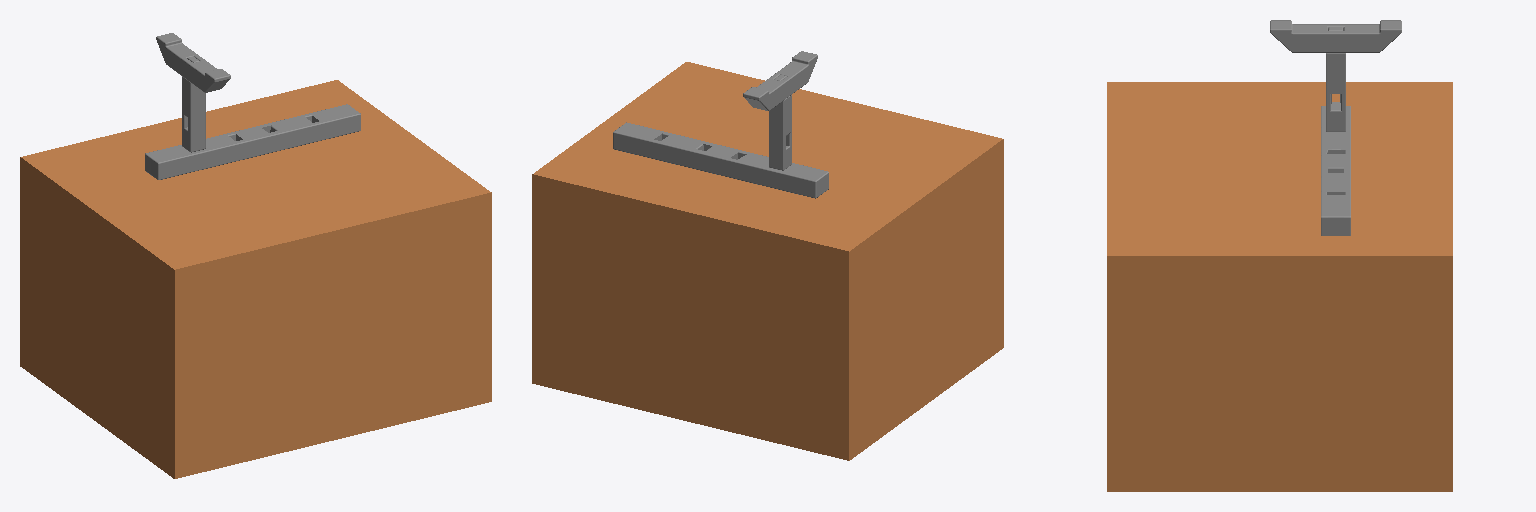
The robot description file, URDF, robot "table_beam_2x_3_scene_0010":
<?xml version="1.0"?>
<robot name="table_beam_2x_3_scene_0010">
  <link name="box">
    <visual>
      <material name="wood"><color rgba="0.82 0.56 0.35 1.0"/></material>
      <origin xyz="0 0 0"/>
      <geometry><box size="0.475 0.4 0.3"/></geometry>
    </visual>
    <collision>
      <origin xyz="0 0 0"/>
      <geometry><box size="0.475 0.4 0.3"/></geometry>
    </collision>
    <inertial>
      <mass value="500"/>
      <friction value="1.0"/>
      <inertia ixx="1000.0" ixy="0.0" ixz="0.0" iyy="1000.0" iyz="0.0" izz="1000.0"/>
    </inertial>
  </link>
  <link name="part_6_hull_0">
    <visual>
      <origin xyz="0 0 0" rpy="0 0 0"/>
      <geometry><mesh filename="../../6/coacd/decomp_0.obj" scale="1 1 1"/></geometry>
      <material name="placed_0"><color rgba="0.6 0.6 0.6 1.0"/></material>
    </visual>
    <collision>
      <origin xyz="0 0 0" rpy="0 0 0"/>
      <geometry><mesh filename="../../6/coacd/decomp_0.obj" scale="1 1 1"/></geometry>
    </collision>
  </link>
  <joint name="part_6_hull_0_joint" type="fixed">
    <parent link="box"/>
    <child link="part_6_hull_0"/>
    <origin xyz="0.032809 0.064644 0.162666" rpy="0.000000 0.000000 0.000000"/>
  </joint>
  <link name="part_6_hull_1">
    <visual>
      <origin xyz="0 0 0" rpy="0 0 0"/>
      <geometry><mesh filename="../../6/coacd/decomp_1.obj" scale="1 1 1"/></geometry>
      <material name="placed_1"><color rgba="0.6 0.6 0.6 1.0"/></material>
    </visual>
    <collision>
      <origin xyz="0 0 0" rpy="0 0 0"/>
      <geometry><mesh filename="../../6/coacd/decomp_1.obj" scale="1 1 1"/></geometry>
    </collision>
  </link>
  <joint name="part_6_hull_1_joint" type="fixed">
    <parent link="box"/>
    <child link="part_6_hull_1"/>
    <origin xyz="0.032809 0.064644 0.162666" rpy="0.000000 0.000000 0.000000"/>
  </joint>
  <link name="part_6_hull_2">
    <visual>
      <origin xyz="0 0 0" rpy="0 0 0"/>
      <geometry><mesh filename="../../6/coacd/decomp_10.obj" scale="1 1 1"/></geometry>
      <material name="placed_2"><color rgba="0.6 0.6 0.6 1.0"/></material>
    </visual>
    <collision>
      <origin xyz="0 0 0" rpy="0 0 0"/>
      <geometry><mesh filename="../../6/coacd/decomp_10.obj" scale="1 1 1"/></geometry>
    </collision>
  </link>
  <joint name="part_6_hull_2_joint" type="fixed">
    <parent link="box"/>
    <child link="part_6_hull_2"/>
    <origin xyz="0.032809 0.064644 0.162666" rpy="0.000000 0.000000 0.000000"/>
  </joint>
  <link name="part_6_hull_3">
    <visual>
      <origin xyz="0 0 0" rpy="0 0 0"/>
      <geometry><mesh filename="../../6/coacd/decomp_11.obj" scale="1 1 1"/></geometry>
      <material name="placed_3"><color rgba="0.6 0.6 0.6 1.0"/></material>
    </visual>
    <collision>
      <origin xyz="0 0 0" rpy="0 0 0"/>
      <geometry><mesh filename="../../6/coacd/decomp_11.obj" scale="1 1 1"/></geometry>
    </collision>
  </link>
  <joint name="part_6_hull_3_joint" type="fixed">
    <parent link="box"/>
    <child link="part_6_hull_3"/>
    <origin xyz="0.032809 0.064644 0.162666" rpy="0.000000 0.000000 0.000000"/>
  </joint>
  <link name="part_6_hull_4">
    <visual>
      <origin xyz="0 0 0" rpy="0 0 0"/>
      <geometry><mesh filename="../../6/coacd/decomp_12.obj" scale="1 1 1"/></geometry>
      <material name="placed_4"><color rgba="0.6 0.6 0.6 1.0"/></material>
    </visual>
    <collision>
      <origin xyz="0 0 0" rpy="0 0 0"/>
      <geometry><mesh filename="../../6/coacd/decomp_12.obj" scale="1 1 1"/></geometry>
    </collision>
  </link>
  <joint name="part_6_hull_4_joint" type="fixed">
    <parent link="box"/>
    <child link="part_6_hull_4"/>
    <origin xyz="0.032809 0.064644 0.162666" rpy="0.000000 0.000000 0.000000"/>
  </joint>
  <link name="part_6_hull_5">
    <visual>
      <origin xyz="0 0 0" rpy="0 0 0"/>
      <geometry><mesh filename="../../6/coacd/decomp_13.obj" scale="1 1 1"/></geometry>
      <material name="placed_5"><color rgba="0.6 0.6 0.6 1.0"/></material>
    </visual>
    <collision>
      <origin xyz="0 0 0" rpy="0 0 0"/>
      <geometry><mesh filename="../../6/coacd/decomp_13.obj" scale="1 1 1"/></geometry>
    </collision>
  </link>
  <joint name="part_6_hull_5_joint" type="fixed">
    <parent link="box"/>
    <child link="part_6_hull_5"/>
    <origin xyz="0.032809 0.064644 0.162666" rpy="0.000000 0.000000 0.000000"/>
  </joint>
  <link name="part_6_hull_6">
    <visual>
      <origin xyz="0 0 0" rpy="0 0 0"/>
      <geometry><mesh filename="../../6/coacd/decomp_2.obj" scale="1 1 1"/></geometry>
      <material name="placed_6"><color rgba="0.6 0.6 0.6 1.0"/></material>
    </visual>
    <collision>
      <origin xyz="0 0 0" rpy="0 0 0"/>
      <geometry><mesh filename="../../6/coacd/decomp_2.obj" scale="1 1 1"/></geometry>
    </collision>
  </link>
  <joint name="part_6_hull_6_joint" type="fixed">
    <parent link="box"/>
    <child link="part_6_hull_6"/>
    <origin xyz="0.032809 0.064644 0.162666" rpy="0.000000 0.000000 0.000000"/>
  </joint>
  <link name="part_6_hull_7">
    <visual>
      <origin xyz="0 0 0" rpy="0 0 0"/>
      <geometry><mesh filename="../../6/coacd/decomp_3.obj" scale="1 1 1"/></geometry>
      <material name="placed_7"><color rgba="0.6 0.6 0.6 1.0"/></material>
    </visual>
    <collision>
      <origin xyz="0 0 0" rpy="0 0 0"/>
      <geometry><mesh filename="../../6/coacd/decomp_3.obj" scale="1 1 1"/></geometry>
    </collision>
  </link>
  <joint name="part_6_hull_7_joint" type="fixed">
    <parent link="box"/>
    <child link="part_6_hull_7"/>
    <origin xyz="0.032809 0.064644 0.162666" rpy="0.000000 0.000000 0.000000"/>
  </joint>
  <link name="part_6_hull_8">
    <visual>
      <origin xyz="0 0 0" rpy="0 0 0"/>
      <geometry><mesh filename="../../6/coacd/decomp_4.obj" scale="1 1 1"/></geometry>
      <material name="placed_8"><color rgba="0.6 0.6 0.6 1.0"/></material>
    </visual>
    <collision>
      <origin xyz="0 0 0" rpy="0 0 0"/>
      <geometry><mesh filename="../../6/coacd/decomp_4.obj" scale="1 1 1"/></geometry>
    </collision>
  </link>
  <joint name="part_6_hull_8_joint" type="fixed">
    <parent link="box"/>
    <child link="part_6_hull_8"/>
    <origin xyz="0.032809 0.064644 0.162666" rpy="0.000000 0.000000 0.000000"/>
  </joint>
  <link name="part_6_hull_9">
    <visual>
      <origin xyz="0 0 0" rpy="0 0 0"/>
      <geometry><mesh filename="../../6/coacd/decomp_5.obj" scale="1 1 1"/></geometry>
      <material name="placed_9"><color rgba="0.6 0.6 0.6 1.0"/></material>
    </visual>
    <collision>
      <origin xyz="0 0 0" rpy="0 0 0"/>
      <geometry><mesh filename="../../6/coacd/decomp_5.obj" scale="1 1 1"/></geometry>
    </collision>
  </link>
  <joint name="part_6_hull_9_joint" type="fixed">
    <parent link="box"/>
    <child link="part_6_hull_9"/>
    <origin xyz="0.032809 0.064644 0.162666" rpy="0.000000 0.000000 0.000000"/>
  </joint>
  <link name="part_6_hull_10">
    <visual>
      <origin xyz="0 0 0" rpy="0 0 0"/>
      <geometry><mesh filename="../../6/coacd/decomp_6.obj" scale="1 1 1"/></geometry>
      <material name="placed_10"><color rgba="0.6 0.6 0.6 1.0"/></material>
    </visual>
    <collision>
      <origin xyz="0 0 0" rpy="0 0 0"/>
      <geometry><mesh filename="../../6/coacd/decomp_6.obj" scale="1 1 1"/></geometry>
    </collision>
  </link>
  <joint name="part_6_hull_10_joint" type="fixed">
    <parent link="box"/>
    <child link="part_6_hull_10"/>
    <origin xyz="0.032809 0.064644 0.162666" rpy="0.000000 0.000000 0.000000"/>
  </joint>
  <link name="part_6_hull_11">
    <visual>
      <origin xyz="0 0 0" rpy="0 0 0"/>
      <geometry><mesh filename="../../6/coacd/decomp_7.obj" scale="1 1 1"/></geometry>
      <material name="placed_11"><color rgba="0.6 0.6 0.6 1.0"/></material>
    </visual>
    <collision>
      <origin xyz="0 0 0" rpy="0 0 0"/>
      <geometry><mesh filename="../../6/coacd/decomp_7.obj" scale="1 1 1"/></geometry>
    </collision>
  </link>
  <joint name="part_6_hull_11_joint" type="fixed">
    <parent link="box"/>
    <child link="part_6_hull_11"/>
    <origin xyz="0.032809 0.064644 0.162666" rpy="0.000000 0.000000 0.000000"/>
  </joint>
  <link name="part_6_hull_12">
    <visual>
      <origin xyz="0 0 0" rpy="0 0 0"/>
      <geometry><mesh filename="../../6/coacd/decomp_8.obj" scale="1 1 1"/></geometry>
      <material name="placed_12"><color rgba="0.6 0.6 0.6 1.0"/></material>
    </visual>
    <collision>
      <origin xyz="0 0 0" rpy="0 0 0"/>
      <geometry><mesh filename="../../6/coacd/decomp_8.obj" scale="1 1 1"/></geometry>
    </collision>
  </link>
  <joint name="part_6_hull_12_joint" type="fixed">
    <parent link="box"/>
    <child link="part_6_hull_12"/>
    <origin xyz="0.032809 0.064644 0.162666" rpy="0.000000 0.000000 0.000000"/>
  </joint>
  <link name="part_6_hull_13">
    <visual>
      <origin xyz="0 0 0" rpy="0 0 0"/>
      <geometry><mesh filename="../../6/coacd/decomp_9.obj" scale="1 1 1"/></geometry>
      <material name="placed_13"><color rgba="0.6 0.6 0.6 1.0"/></material>
    </visual>
    <collision>
      <origin xyz="0 0 0" rpy="0 0 0"/>
      <geometry><mesh filename="../../6/coacd/decomp_9.obj" scale="1 1 1"/></geometry>
    </collision>
  </link>
  <joint name="part_6_hull_13_joint" type="fixed">
    <parent link="box"/>
    <child link="part_6_hull_13"/>
    <origin xyz="0.032809 0.064644 0.162666" rpy="0.000000 0.000000 0.000000"/>
  </joint>
  <link name="part_2_canonical">
    <visual>
      <origin xyz="0 0 0" rpy="0 0 0"/>
      <geometry><mesh filename="../../2/2_canonical.obj" scale="1 1 1"/></geometry>
      <material name="placed_14"><color rgba="0.6 0.6 0.6 1.0"/></material>
    </visual>
    <collision>
      <origin xyz="0 0 0" rpy="0 0 0"/>
      <geometry><mesh filename="../../2/2_canonical.obj" scale="1 1 1"/></geometry>
    </collision>
  </link>
  <joint name="part_2_canonical_joint" type="fixed">
    <parent link="box"/>
    <child link="part_2_canonical"/>
    <origin xyz="-0.056118 0.064644 0.225384" rpy="0.000000 -1.570796 0.000000"/>
  </joint>
  <link name="part_0_canonical">
    <visual>
      <origin xyz="0 0 0" rpy="0 0 0"/>
      <geometry><mesh filename="../../0/0_canonical.obj" scale="1 1 1"/></geometry>
      <material name="placed_15"><color rgba="0.6 0.6 0.6 1.0"/></material>
    </visual>
    <collision>
      <origin xyz="0 0 0" rpy="0 0 0"/>
      <geometry><mesh filename="../../0/0_canonical.obj" scale="1 1 1"/></geometry>
    </collision>
  </link>
  <joint name="part_0_canonical_joint" type="fixed">
    <parent link="box"/>
    <child link="part_0_canonical"/>
    <origin xyz="-0.056091 0.064644 0.292243" rpy="1.570796 0.000000 -1.570796"/>
  </joint>
</robot>

--- What the picture shows (computed from the rendered views, not written in the file) ---
Views: 3 orthographic renders of the robot side by side, from view 1: azimuth 30°, elevation 25°; view 2: azimuth 150°, elevation 25°; view 3: azimuth 270°, elevation 25°.
Model table_beam_2x_3_scene_0010 with 17 links and 16 joints (16 fixed), rooted at box, posed every joint at zero.
Links seen in each view (by area): view 1: box, part_0_canonical, part_2_canonical, part_6_hull_1, part_6_hull_0, part_6_hull_9, part_6_hull_5, part_6_hull_3; view 2: box, part_0_canonical, part_2_canonical, part_6_hull_1, part_6_hull_0, part_6_hull_2, part_6_hull_12, part_6_hull_5; view 3: box, part_0_canonical, part_2_canonical, part_6_hull_0.
Boxes of the visible links, <box> form: box: <box>20,80,491,478</box>; part_0_canonical: <box>156,33,230,92</box>; part_2_canonical: <box>182,57,205,152</box>; part_6_hull_1: <box>145,145,196,179</box>; part_6_hull_0: <box>309,104,360,139</box>; part_6_hull_9: <box>195,140,245,170</box>; part_6_hull_5: <box>276,115,315,148</box>; part_6_hull_3: <box>247,129,288,157</box>; box: <box>532,62,1003,460</box>; part_0_canonical: <box>743,51,817,110</box>; part_2_canonical: <box>769,75,791,170</box>; part_6_hull_1: <box>777,163,828,198</box>; part_6_hull_0: <box>613,122,663,158</box>; part_6_hull_2: <box>735,155,772,186</box>; part_6_hull_12: <box>685,147,726,175</box>; part_6_hull_5: <box>659,134,697,166</box>; box: <box>1107,82,1452,491</box>; part_0_canonical: <box>1270,20,1401,52</box>; part_2_canonical: <box>1326,27,1345,131</box>; part_6_hull_0: <box>1321,195,1350,235</box>.
Size in the robot's own frame: 0.475 by 0.4 by 0.4575 metres.
16 mesh visuals loaded from 16 distinct referenced files (16 OBJ).
